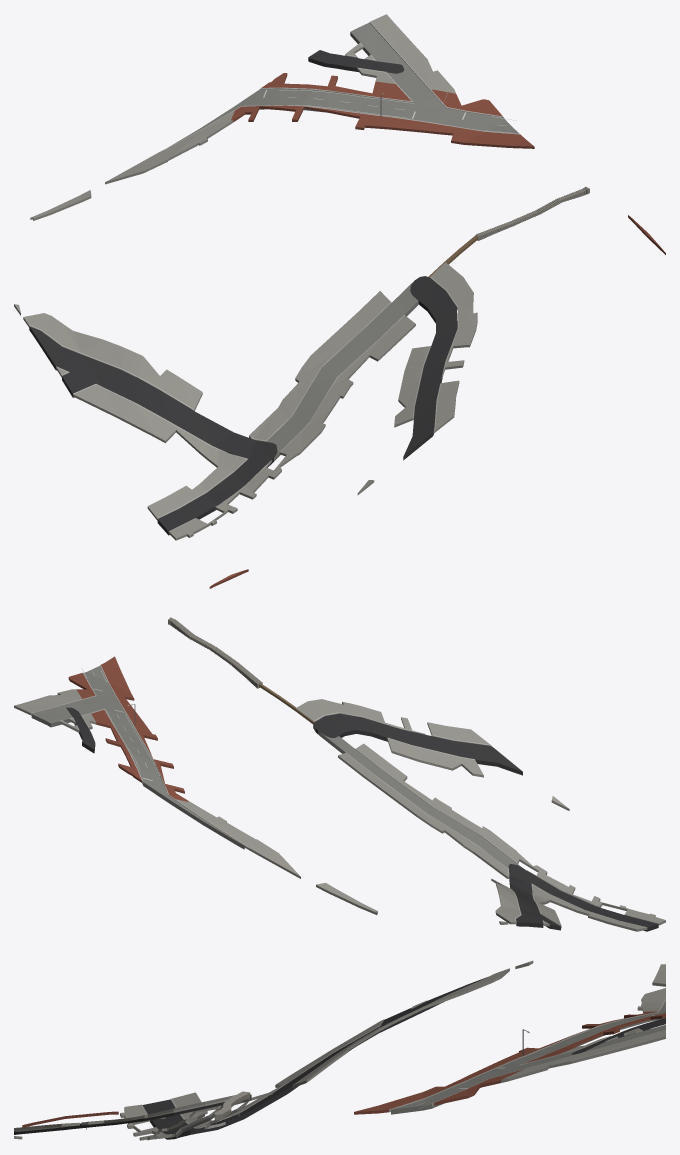
3 views of the same model, one above another, from view 1: azimuth 30°, elevation 25°; view 2: azimuth 150°, elevation 25°; view 3: azimuth 270°, elevation 25° (orthographic). The views are drawn at different scales.
Size of the model in its own units: 149 by 82.91 by 146.
